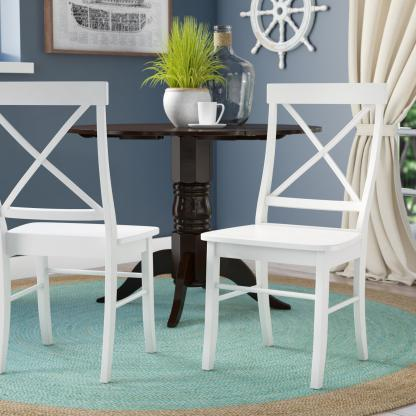chair: (196, 74, 394, 398), (0, 64, 154, 382)
table: (65, 120, 326, 329)
